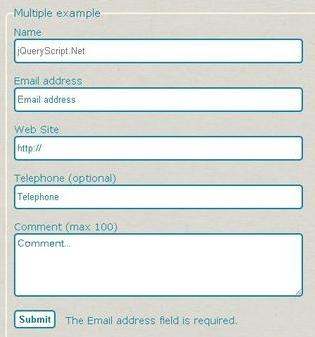button: (13, 309, 56, 329)
field: (12, 232, 304, 298), (13, 37, 303, 65), (13, 85, 303, 113), (12, 134, 304, 161), (12, 183, 303, 210)
field_with_label: (10, 222, 305, 299), (11, 27, 306, 67), (11, 77, 304, 115), (10, 173, 305, 210), (11, 124, 305, 161)
